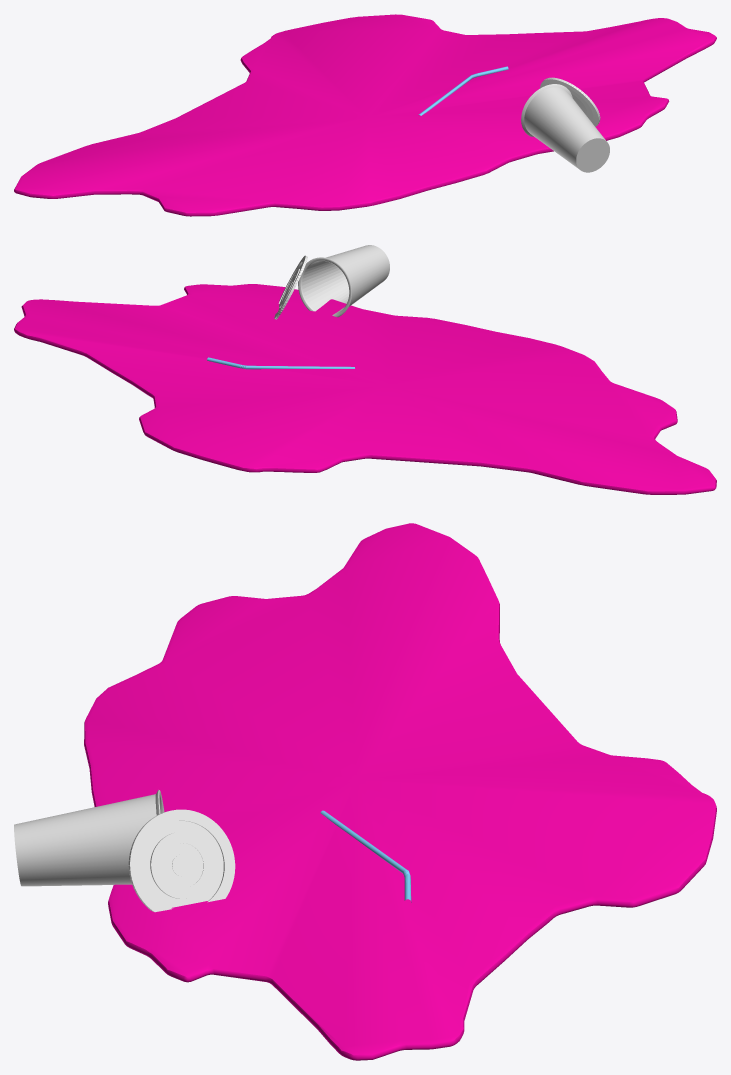
File: juice_fbx.fbx
The picture shows the model from 3 angles, top to bottom: view 1: azimuth 30°, elevation 25°; view 2: azimuth 150°, elevation 25°; view 3: azimuth 270°, elevation 25°; orthographic projection. The views are drawn at different scales.
Parts seen in each view (by area): view 1: Cylinder001, Cylinder002, Cylinder003, Cylinder004; view 2: Cylinder001, Cylinder002, Cylinder003, Cylinder004; view 3: Cylinder001, Cylinder002, Cylinder003.
Part boxes in pixels (x1,y1,x2,y2): Cylinder001: [14, 14, 716, 216]; Cylinder002: [521, 84, 609, 172]; Cylinder003: [540, 77, 600, 126]; Cylinder004: [418, 66, 508, 115]; Cylinder001: [14, 284, 716, 494]; Cylinder002: [298, 245, 389, 317]; Cylinder003: [274, 255, 307, 319]; Cylinder004: [207, 357, 354, 369]; Cylinder001: [84, 523, 716, 1060]; Cylinder002: [14, 790, 164, 886]; Cylinder003: [128, 809, 235, 912].
Size of the model in its own units: 104 by 8.66 by 57.71.
